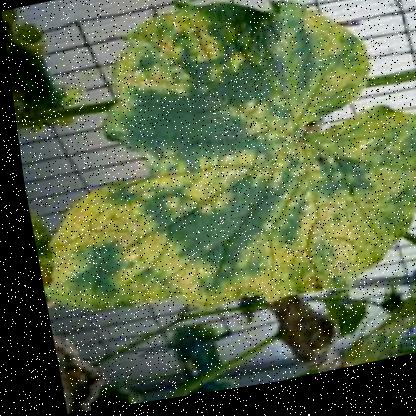DownyMildew: (53, 166, 367, 335), (109, 0, 353, 153), (244, 114, 415, 266)
